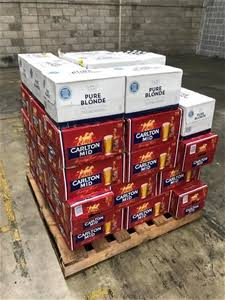box: (53, 74, 124, 122), (60, 117, 126, 167), (63, 152, 125, 203), (71, 189, 121, 249), (126, 67, 182, 112), (126, 140, 179, 185), (128, 105, 182, 149), (126, 182, 172, 229), (180, 133, 217, 182), (181, 98, 216, 138), (174, 184, 207, 221)
pallet: (22, 166, 210, 281)
